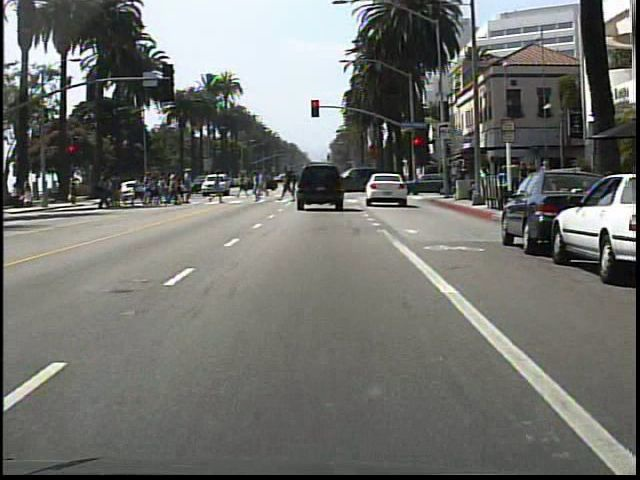person: (494, 161, 512, 210), (231, 170, 251, 205)
